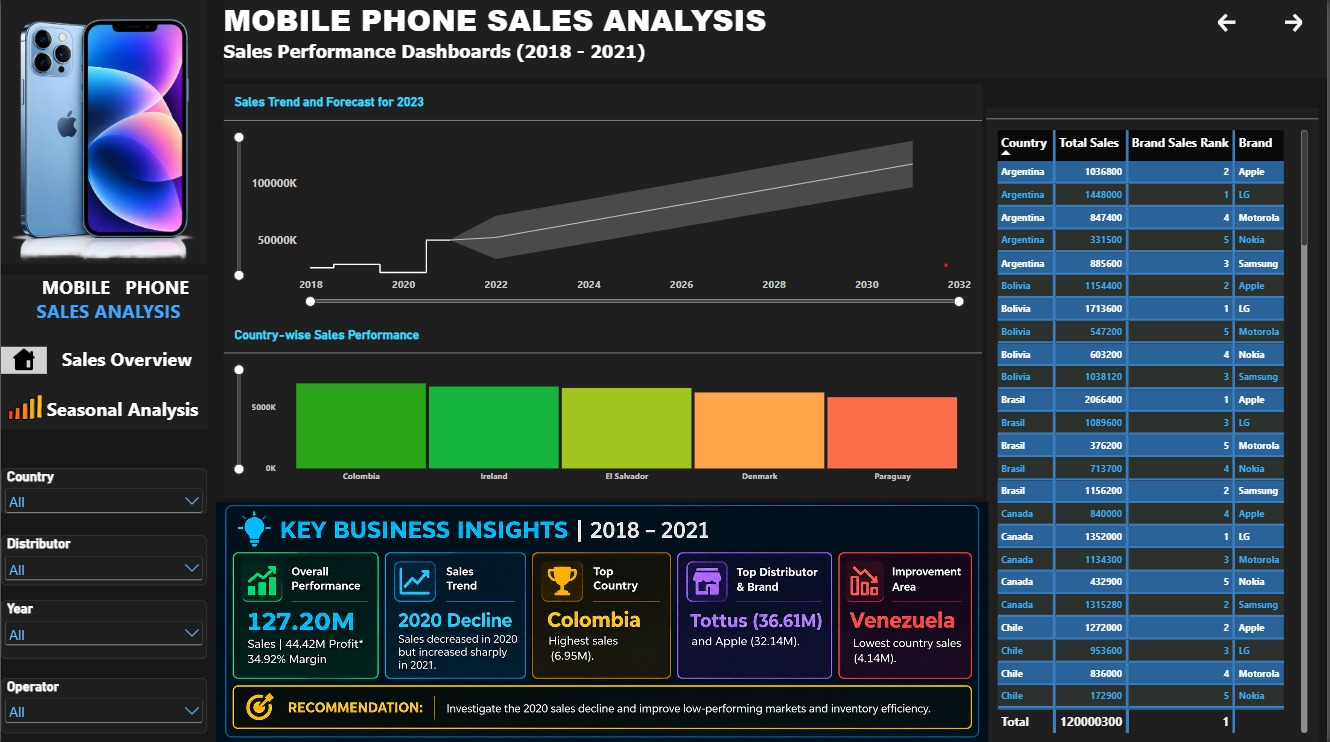

This screenshot's page, from the dashboard's own definition file:
{"tool":"powerbi","page":{"name":"Page 3","canvas":[1920,1080],"ordinal":2},"visuals":[{"type":"lineChart","title":"Sales Trend and Forecast for 2023","fields":{"Category":["Date_Phones.Year"],"Y":["Mesure.Total Sales"]},"box":[322.1,124.9,1098,336.6],"z":0},{"type":"tableEx","fields":{"Values":["Phone Sales.Country","Mesure.Total Sales","Mesure.Brand Sales Rank","Phone Sales.Brand"]},"box":[1426,159.3,481.4,921.1],"z":1000},{"type":"slicer","fields":{"Values":["Phone Sales.Country"]},"box":[0,680.4,298.1,66.7],"z":2000},{"type":"slicer","fields":{"Values":["Phone Sales.Distributor"]},"box":[0,778.2,298.1,72.2],"z":3000},{"type":"slicer","fields":{"Values":["Date_Phones.Year"]},"box":[0,872.3,298.1,85.2],"z":4000},{"type":"slicer","fields":{"Values":["Phone Sales.Operator"]},"box":[0,985.2,298.1,79.6],"z":5000},{"type":"image","box":[0,0,298.1,385.2],"z":6000},{"type":"textbox","box":[0,400,300,103.7],"z":7000},{"type":"textbox","box":[0,468.5,299,72],"z":8000},{"type":"textbox","box":[0,540.7,300,83.3],"z":9000},{"type":"image","box":[0,505.6,66.7,38.9],"z":10000},{"type":"image","box":[0,563,66.7,61.1],"z":11000},{"type":"textbox","box":[322.1,0,1597.9,115.8],"z":12000},{"type":"clusteredColumnChart","title":"Country-wise Sales Performance","fields":{"Category":["Phone Sales.Country"],"Y":["Mesure.Total Sales"]},"box":[322.1,461.5,1098,260.6],"z":13000},{"type":"image","box":[311.3,729.3,1118.4,351.1],"z":14000},{"type":"actionButton","box":[1820.5,0,100,72],"z":15000},{"type":"actionButton","box":[1721,0,108,72],"z":16000}]}

Visuals, with their boxes on the page's 1920x1080 design canvas (x1, y1, x2, y2). These are canvas units, not pixel positions in the 1330x742 screenshot, which may show the page scaled, cropped or inside an application window:
"Sales Trend and Forecast for 2023" lineChart: region(322, 125, 1420, 462)
tableEx - Phone Sales.Country x Mesure.Total Sales: region(1426, 159, 1907, 1080)
slicer - Phone Sales.Country: region(0, 680, 298, 747)
slicer - Phone Sales.Distributor: region(0, 778, 298, 850)
slicer - Date_Phones.Year: region(0, 872, 298, 958)
slicer - Phone Sales.Operator: region(0, 985, 298, 1065)
image: region(0, 0, 298, 385)
textbox: region(0, 400, 300, 504)
textbox: region(0, 468, 299, 540)
textbox: region(0, 541, 300, 624)
image: region(0, 506, 67, 544)
image: region(0, 563, 67, 624)
textbox: region(322, 0, 1920, 116)
"Country-wise Sales Performance" clusteredColumnChart: region(322, 462, 1420, 722)
image: region(311, 729, 1430, 1080)
actionButton: region(1820, 0, 1920, 72)
actionButton: region(1721, 0, 1829, 72)
